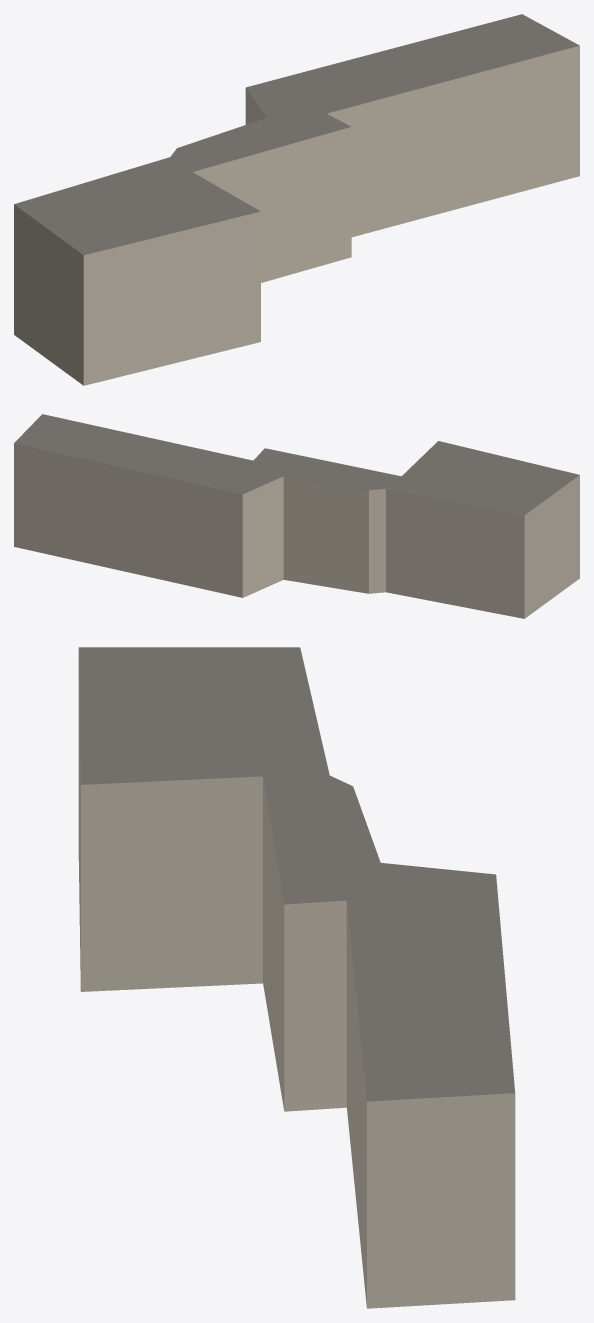
3 views of the same model, one above another, from view 1: azimuth 30°, elevation 25°; view 2: azimuth 150°, elevation 25°; view 3: azimuth 270°, elevation 25° (orthographic). The views are drawn at different scales.
Visible parts, largest first — view 1: HP-w1512914151; view 2: HP-w1512914151; view 3: HP-w1512914151.
Part boxes in pixels (x1,y1,x2,y2): HP-w1512914151: [14, 14, 579, 385]; HP-w1512914151: [14, 414, 579, 618]; HP-w1512914151: [78, 647, 515, 1308].
Size of the model in its own units: 84.72 by 18 by 34.39.
